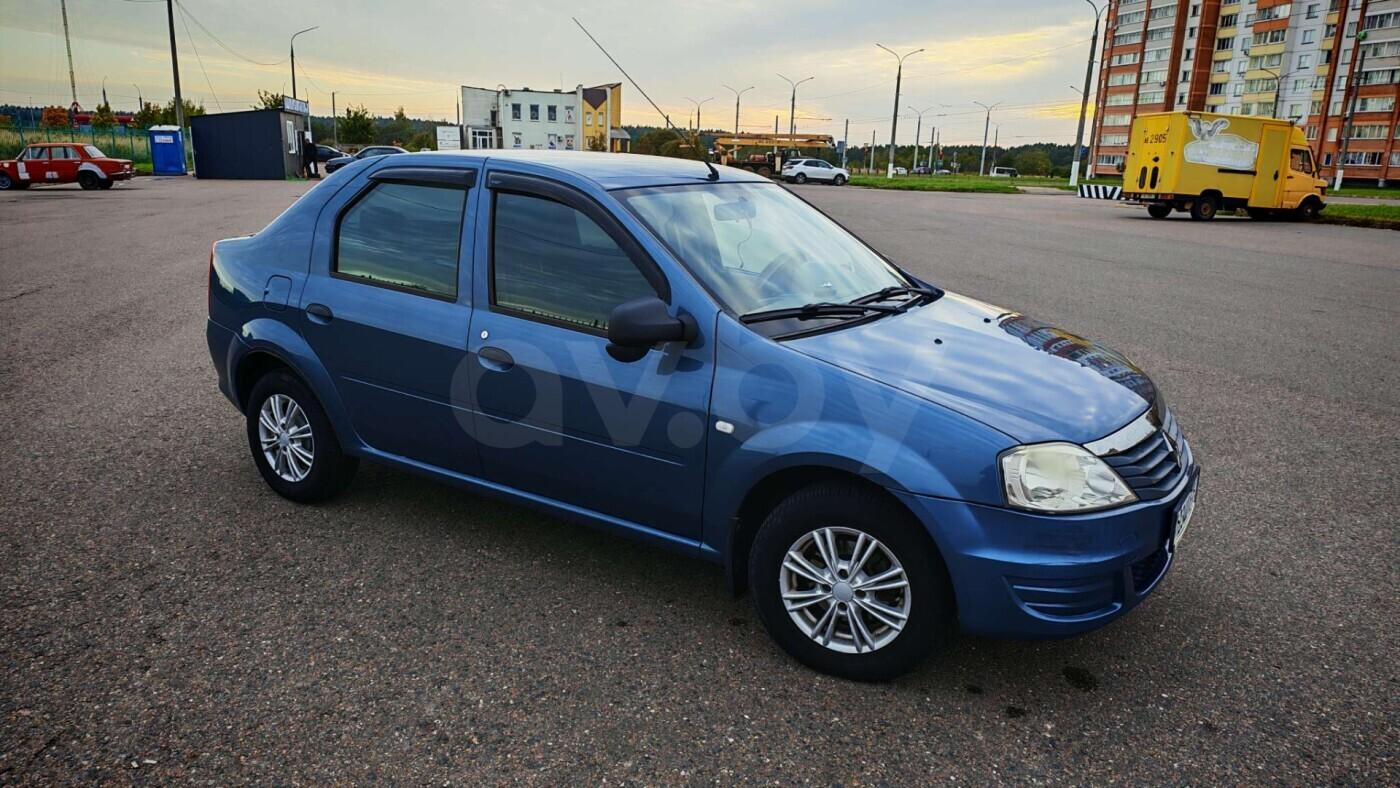Logan_2008-2015: (200, 139, 1205, 690)
